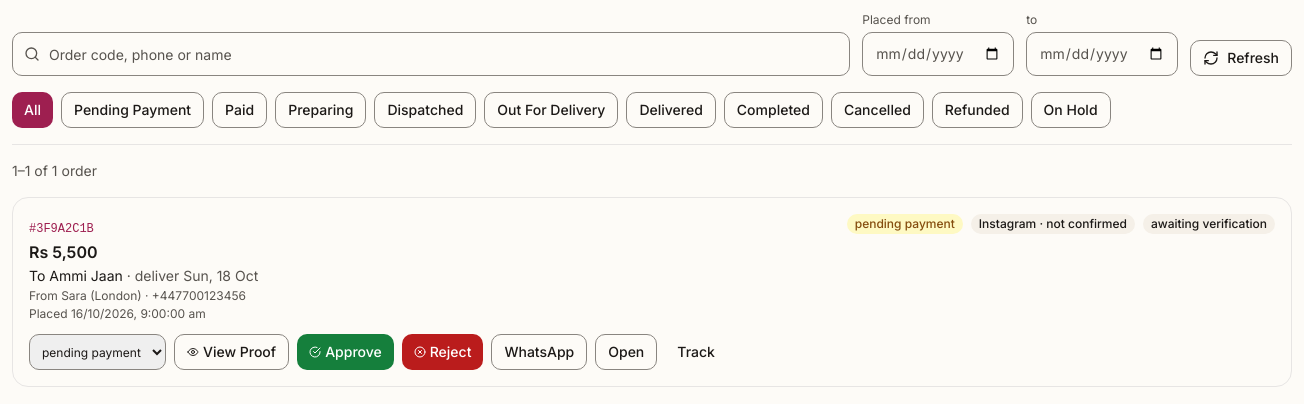
Test case: OrderList › says when nothing matches a search
Expected: the link "#3F9A2C1B" is shown, [29,222,94,236]
In the search field named "Search orders": [431, 54] box [12,32,850,76], type "nobody"
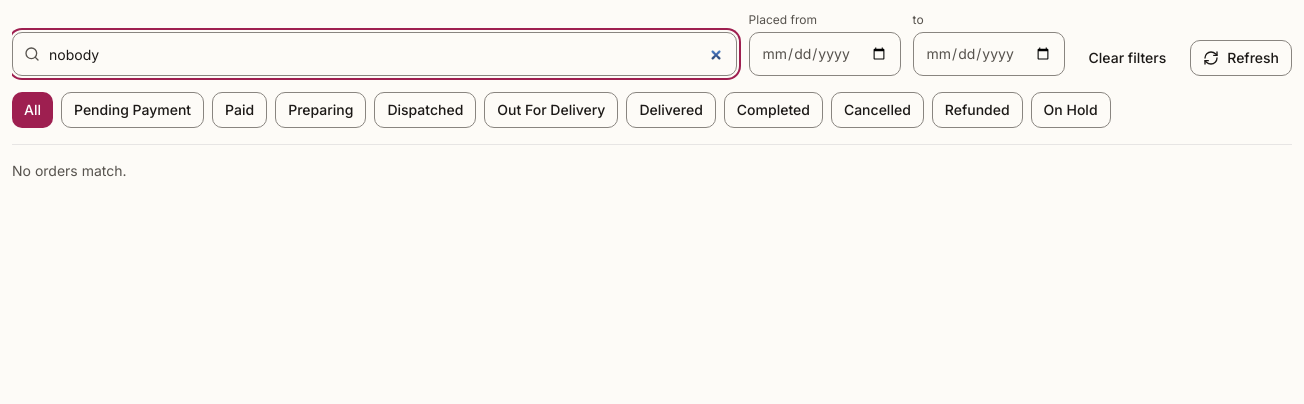
Expected: the text "No orders match." is shown, [12,162,126,179]
